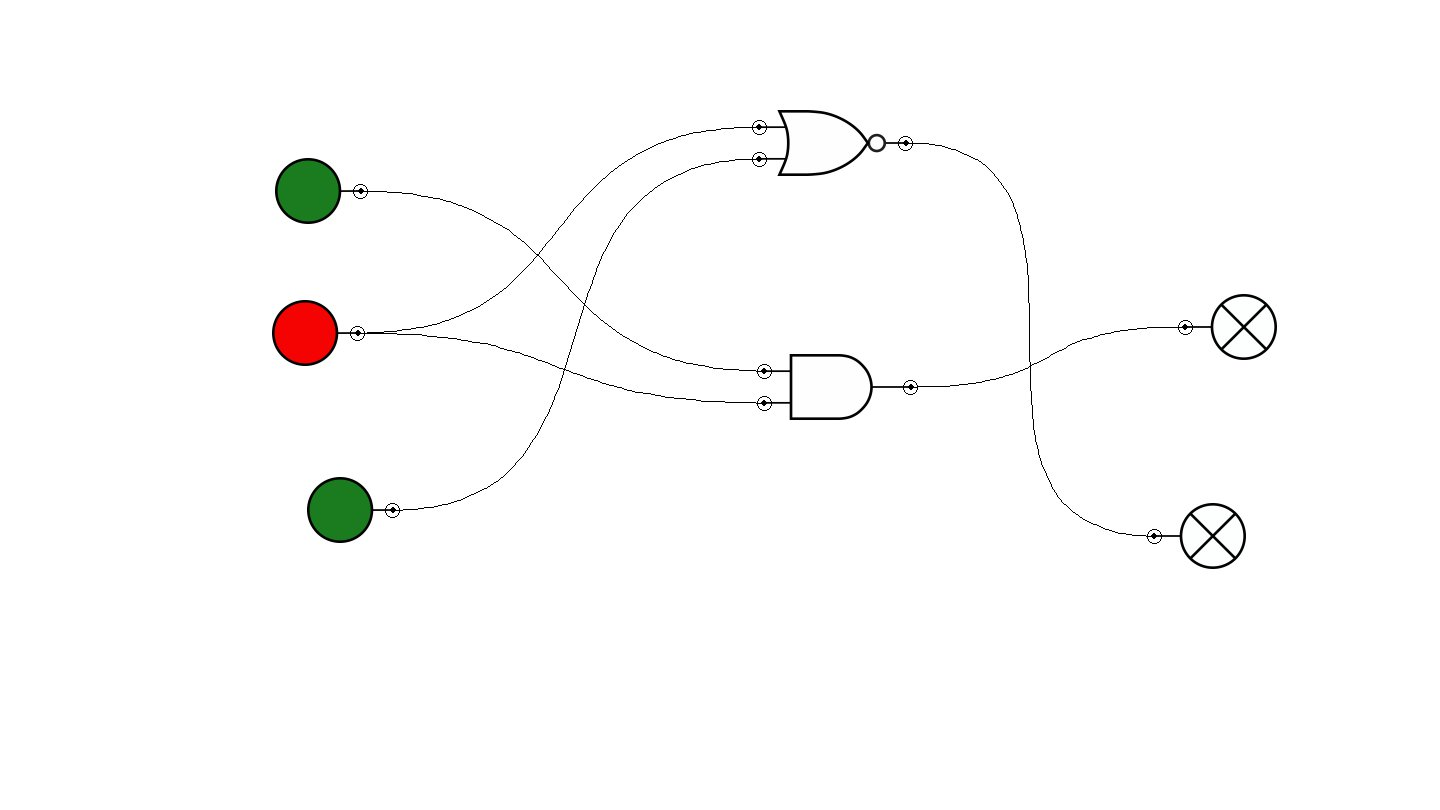and: (757, 354, 918, 420)
bulb: (1178, 294, 1277, 360), (1147, 503, 1246, 569)
nor: (752, 110, 913, 176)
switch_False: (272, 300, 365, 366)
switch_True: (307, 477, 400, 543), (275, 158, 368, 224)
